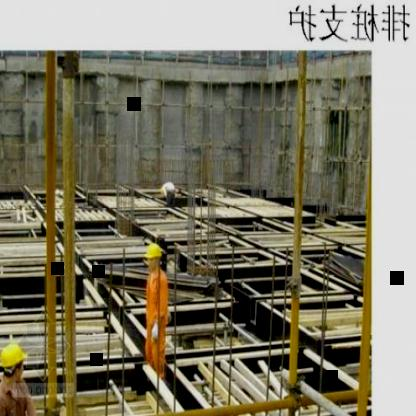helmet: (0, 340, 26, 382), (143, 241, 161, 276)
